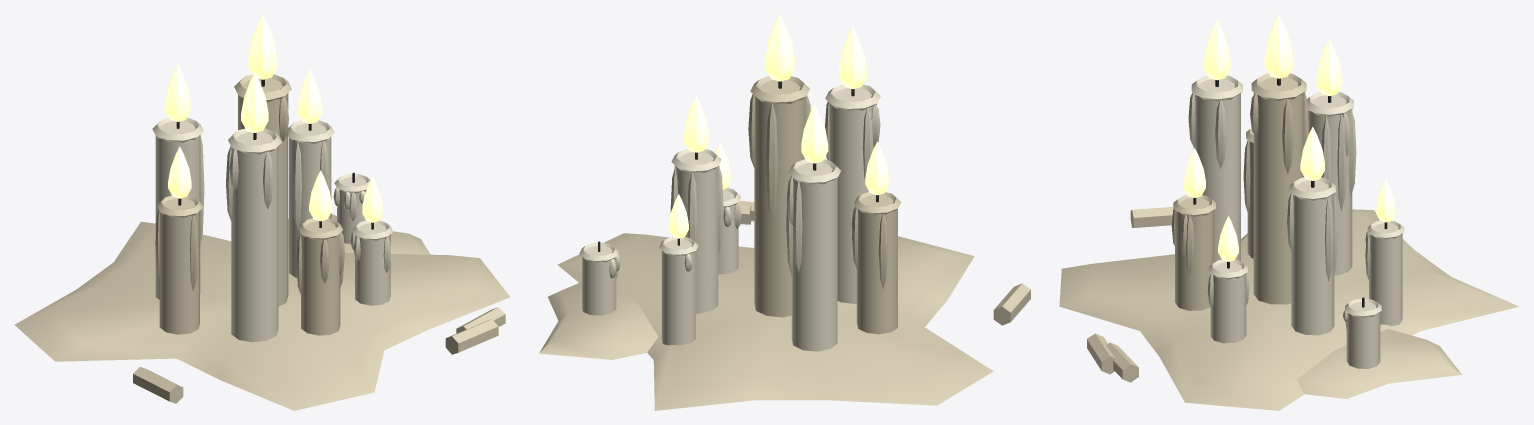
The model's file is floor_candles.glb.
3 views of the same model, side by side, from view 1: azimuth 30°, elevation 25°; view 2: azimuth 150°, elevation 25°; view 3: azimuth 270°, elevation 25° (orthographic). The views are drawn at different scales.
Parts seen in each view (by area): view 1: floor_candles; view 2: floor_candles; view 3: floor_candles.
Boxes of the visible parts, x1,y1,x2,y2 form: floor_candles: (14, 14, 510, 410); floor_candles: (539, 14, 1030, 410); floor_candles: (1059, 14, 1518, 410).
Bounding box in the file's own units: 0.8599 × 0.5745 × 0.8186.
